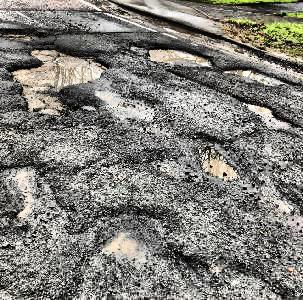pothole: (6, 43, 107, 115), (88, 207, 169, 273), (2, 157, 44, 220), (242, 100, 298, 133), (146, 44, 213, 68), (197, 145, 239, 182), (223, 64, 286, 86), (0, 24, 48, 39)
